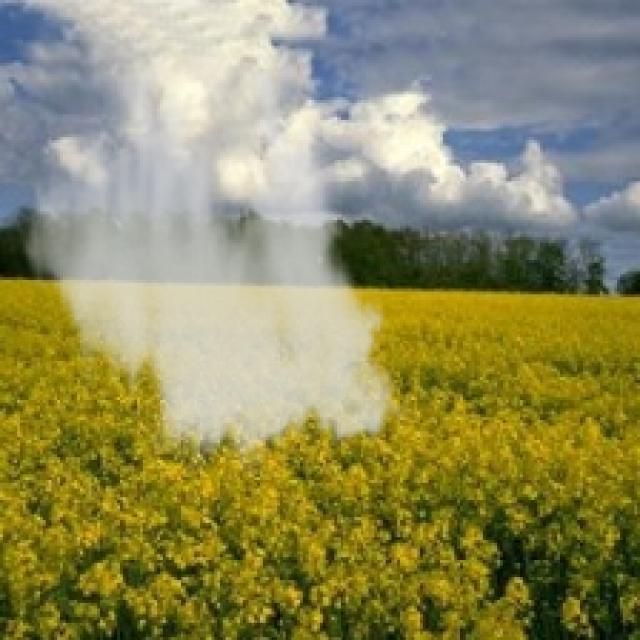smoke: (12, 69, 414, 474)
